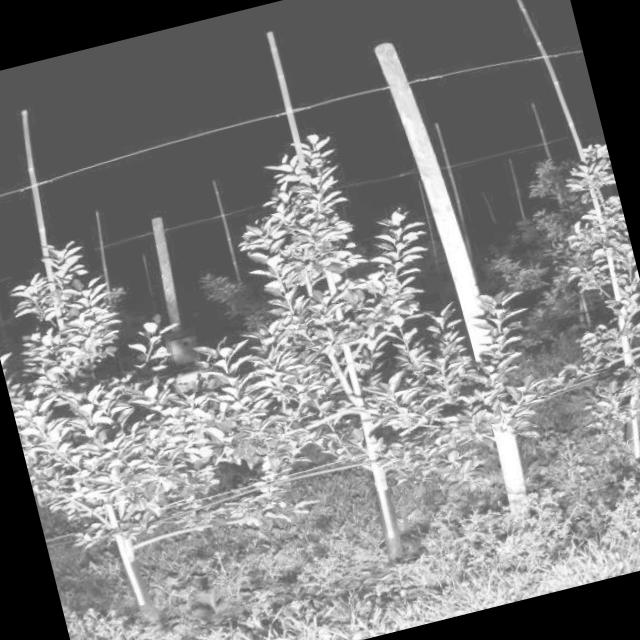Tree: (205, 126, 458, 578), (0, 227, 217, 620), (513, 139, 640, 480)
